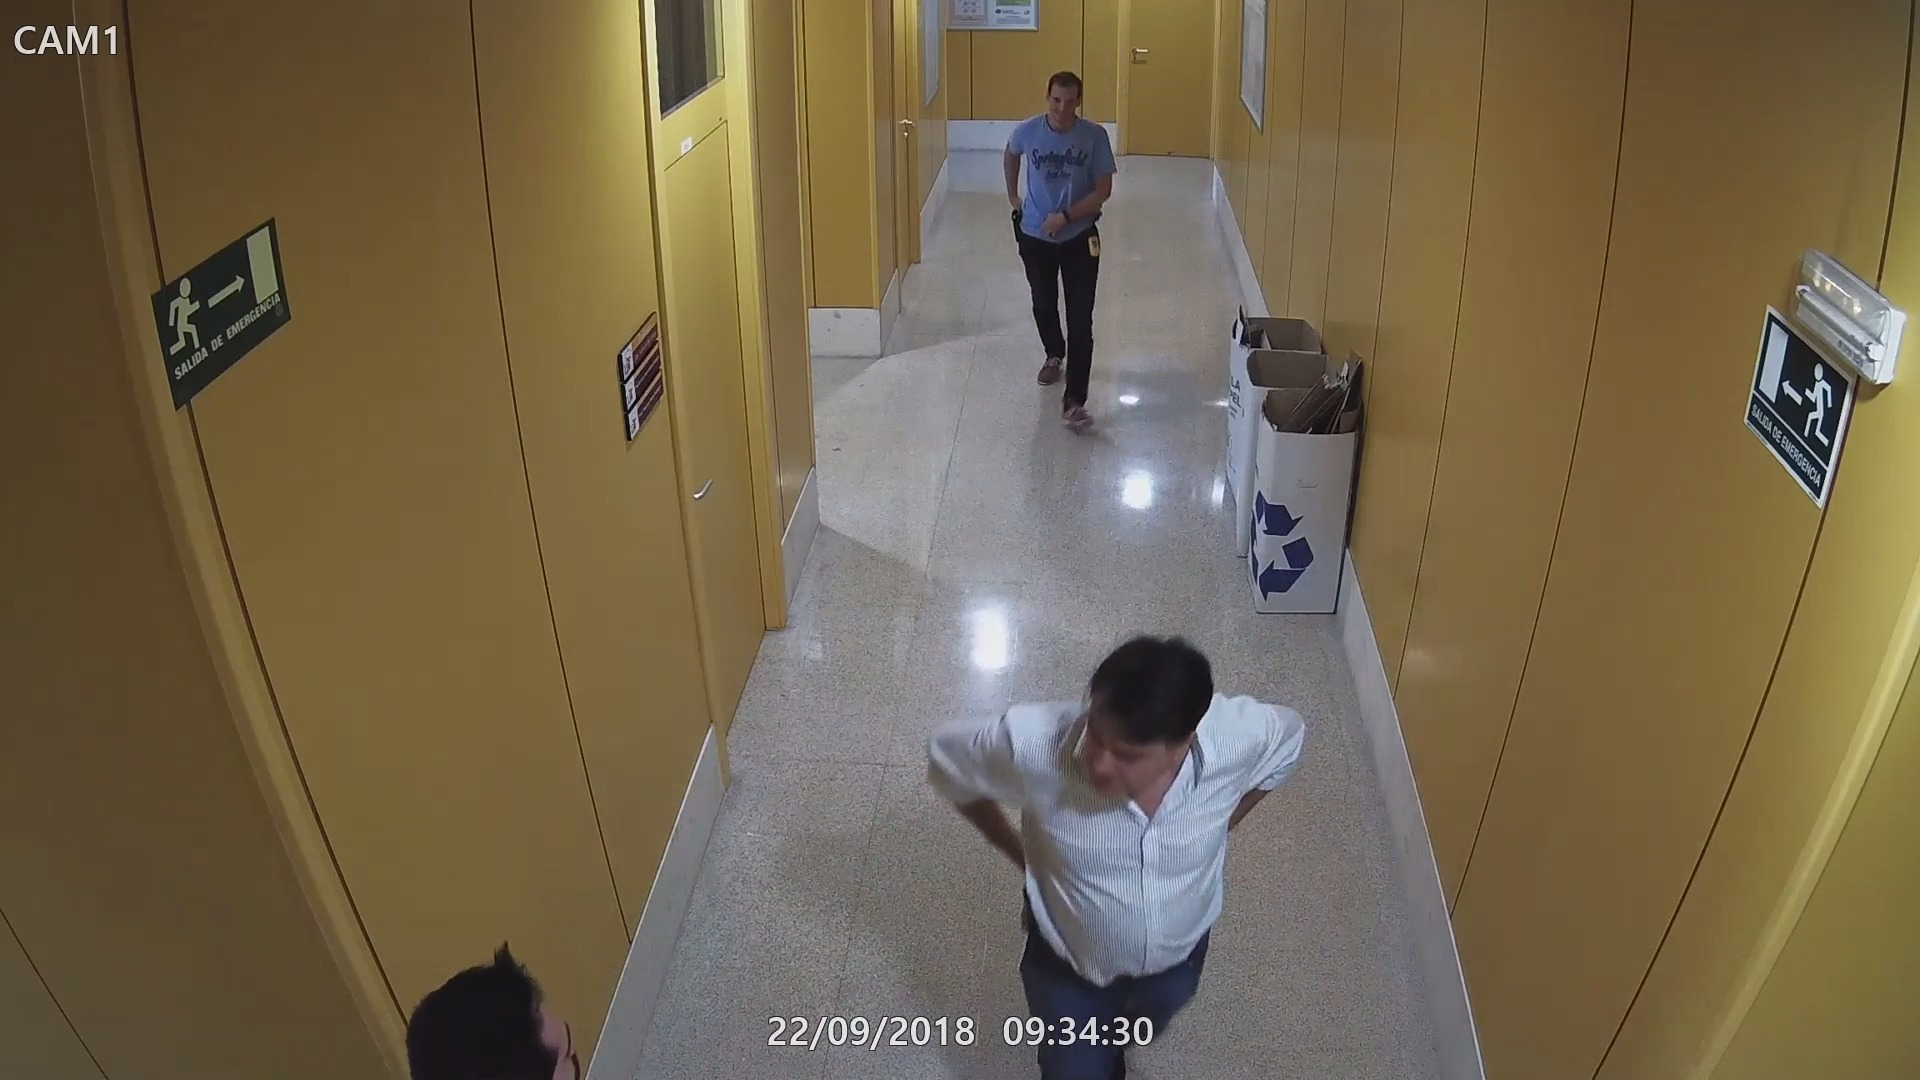Handgun: (1004, 208, 1030, 251)
